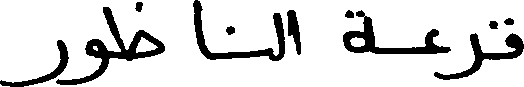ا: (190, 0, 207, 59), (285, 7, 302, 54)
ة: (343, 7, 375, 54)
ر: (0, 38, 70, 85), (448, 30, 483, 80)
ظ: (106, 0, 163, 70)
ع: (412, 27, 449, 60)
ق: (484, 17, 522, 59)
ل: (274, 10, 284, 61)
ن: (225, 25, 276, 61)
و: (72, 40, 107, 83)
